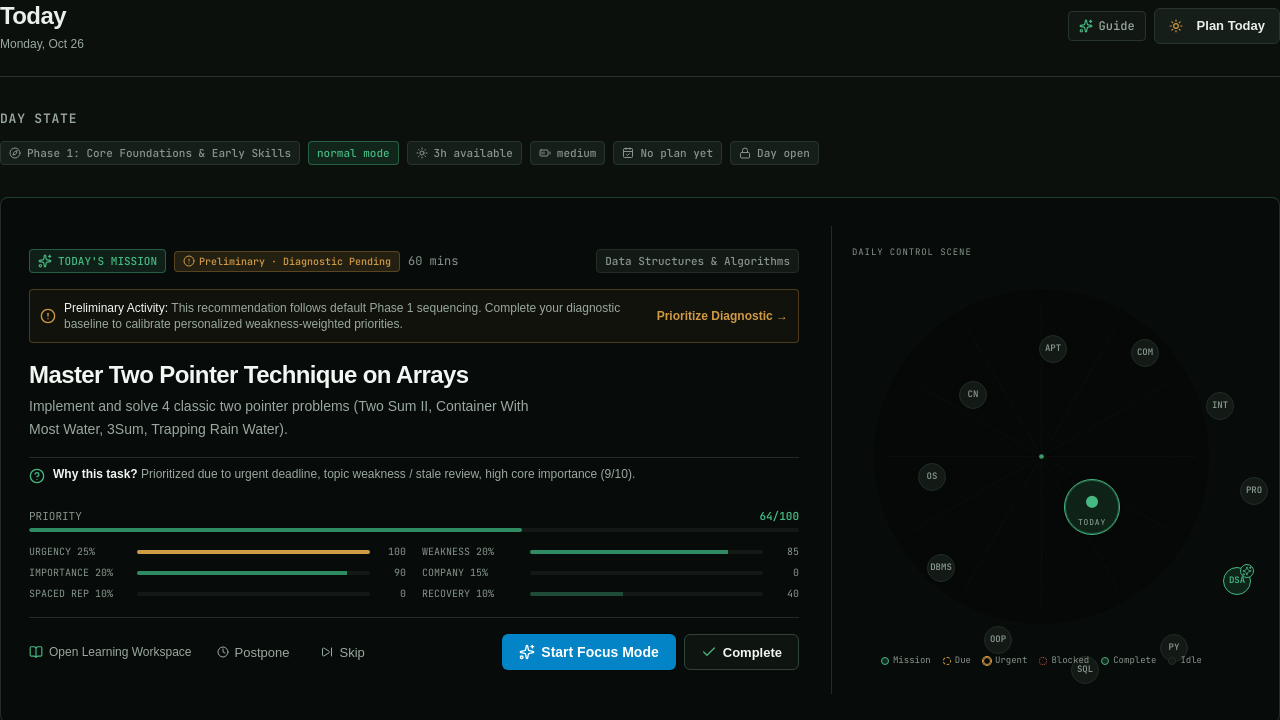
Test case: C7-07 — completion animation › F1. a real completion opens the animation, shows readable names and writes exactly one evidence event
Click the button with test id "complete-primary".
click(741, 652)  # box [684,634,799,670]
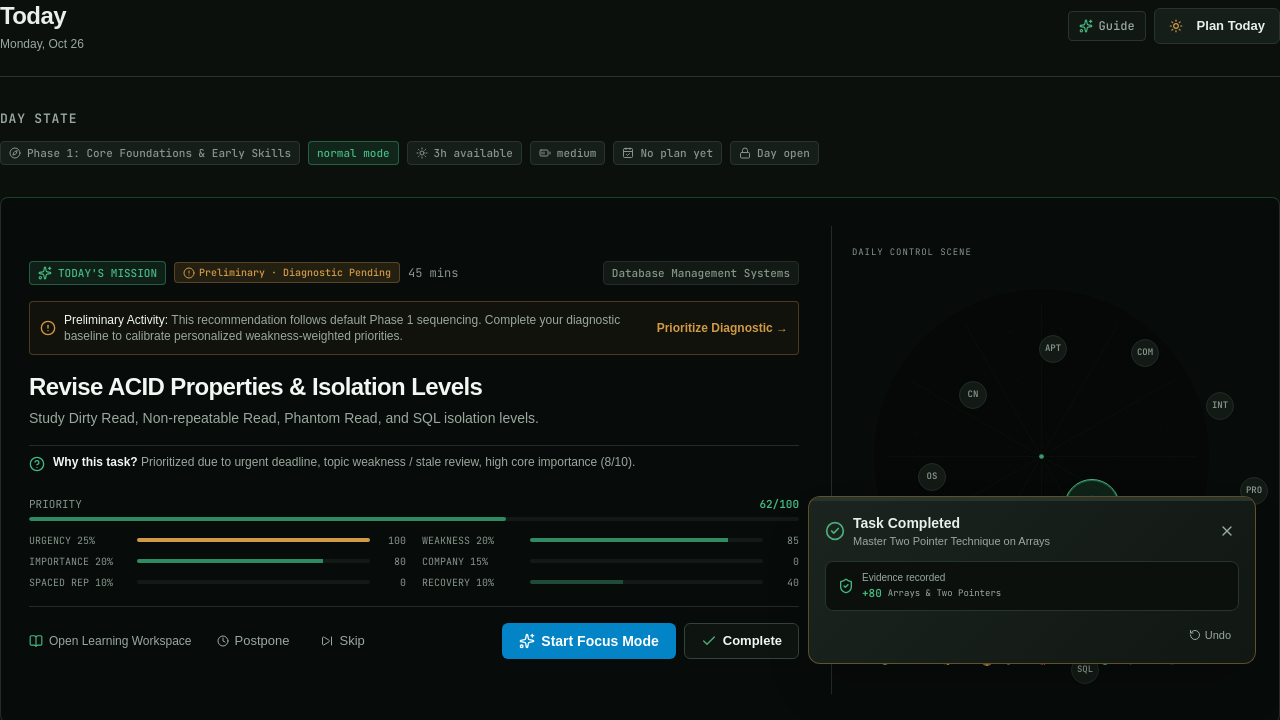
Check: the message with test id "completion-animation" shows "Master Two Pointer Technique on Arrays", box [853,534,1050,546]
Check: the message with test id "completion-animation" shows "Arrays & Two Pointers", box [888,586,1001,598]
# dismissing creates nothing and closes the animation
Click the button with test id "completion-dismiss".
click(1227, 531)  # box [1215,519,1239,543]
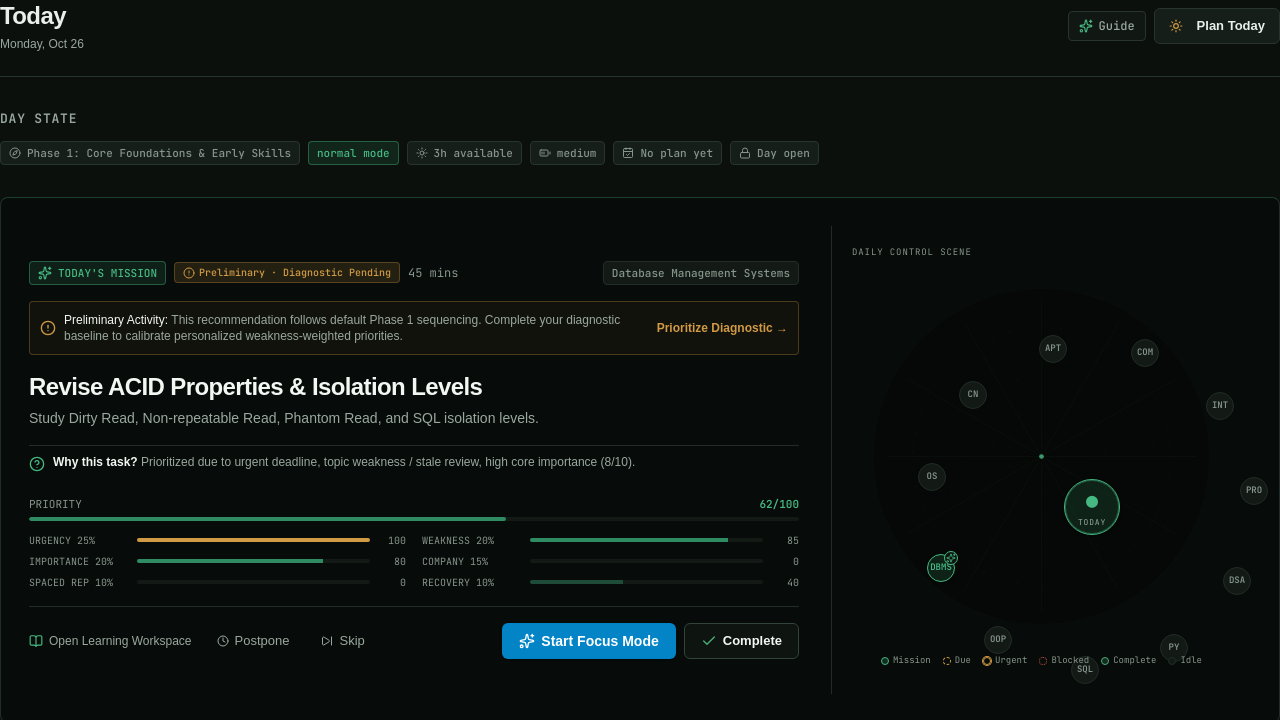
Check: the message with test id "completion-animation" is gone
